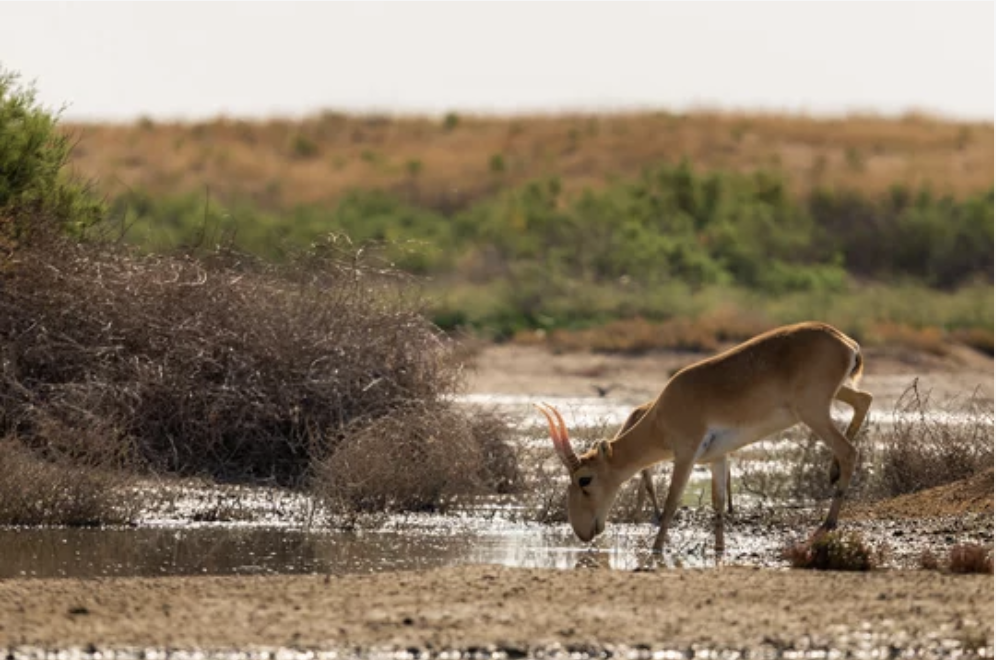saiga: (537, 313, 864, 548)
